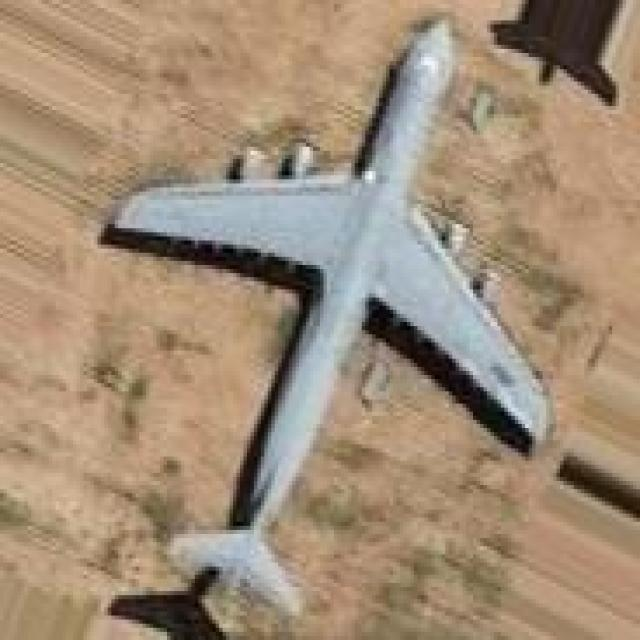C-5_TopDown: (94, 12, 560, 620)
